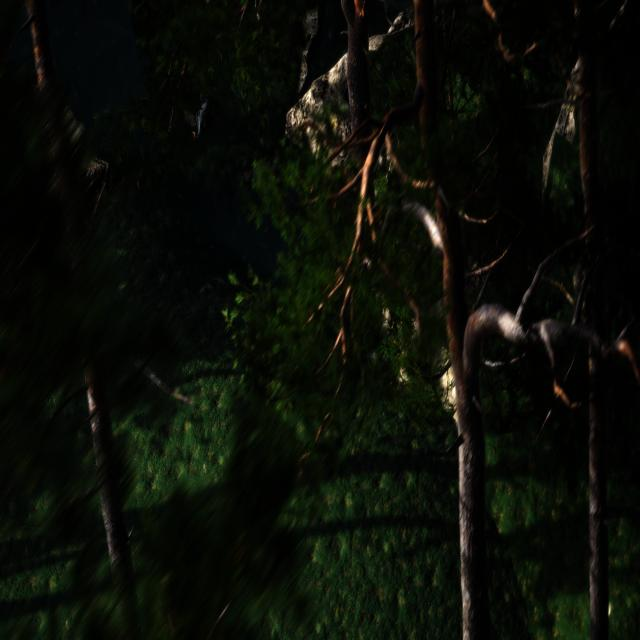Human: (171, 76, 223, 141)
